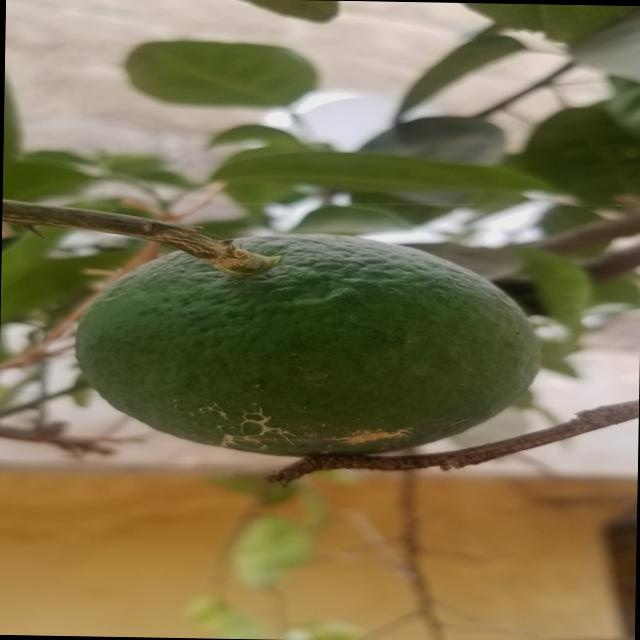agrume: (53, 218, 573, 476)
